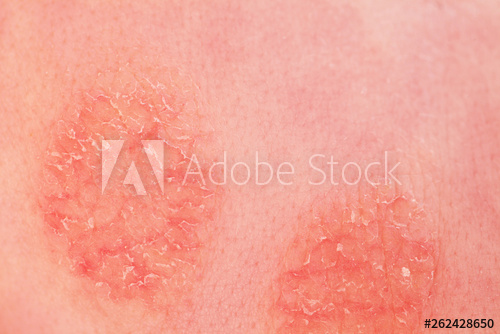Eczema: (42, 72, 455, 334)
